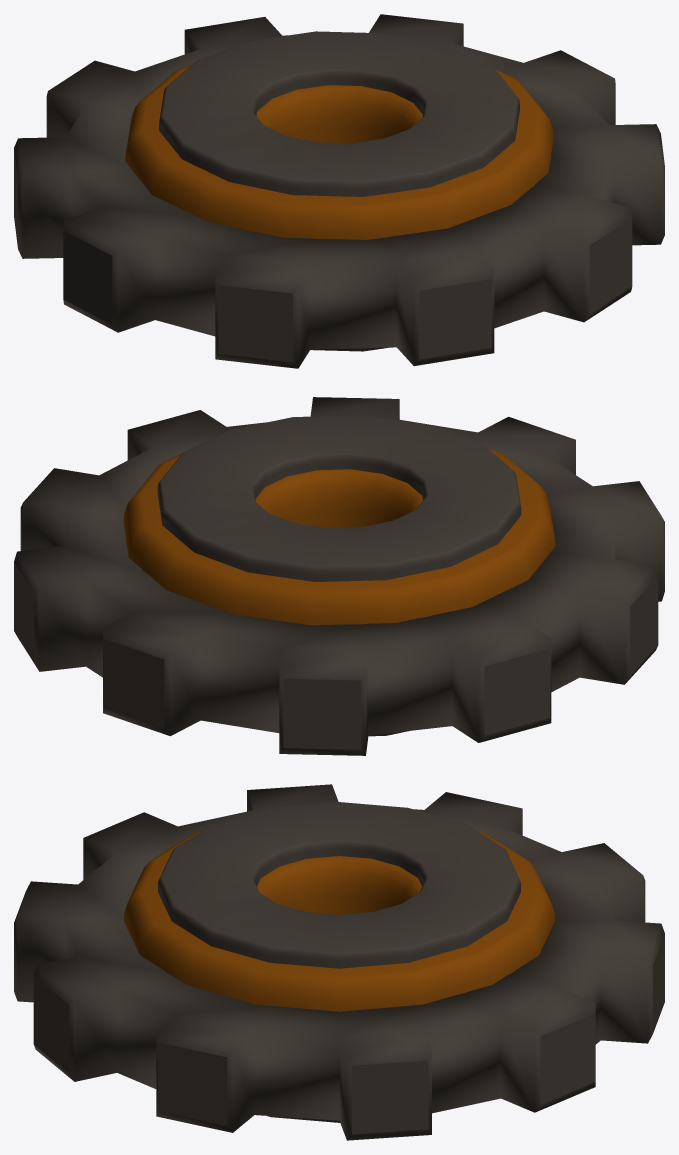
Rendered from Шестеренка 1.fbx.
3 views of the same model, one above another, from view 1: azimuth 30°, elevation 25°; view 2: azimuth 150°, elevation 25°; view 3: azimuth 270°, elevation 25° (orthographic).
Visible parts, largest first — view 1: Шестеренушка_1; view 2: Шестеренушка_1; view 3: Шестеренушка_1.
Part boxes in pixels (left/top/right/bottom): Шестеренушка_1: left=14, top=14, right=664, bottom=368; Шестеренушка_1: left=14, top=397, right=664, bottom=755; Шестеренушка_1: left=14, top=784, right=664, bottom=1140.
Size of the model in its own units: 118 by 34.26 by 118.
